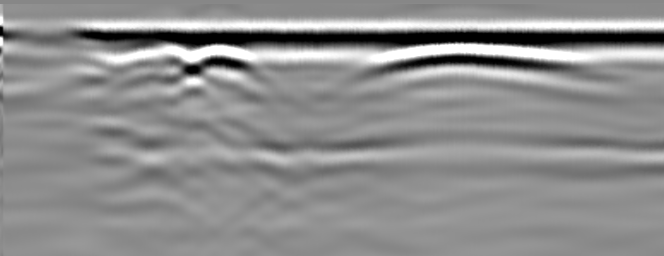pipe: (5, 22, 79, 42)
steel: (383, 47, 572, 72), (116, 42, 257, 72)
